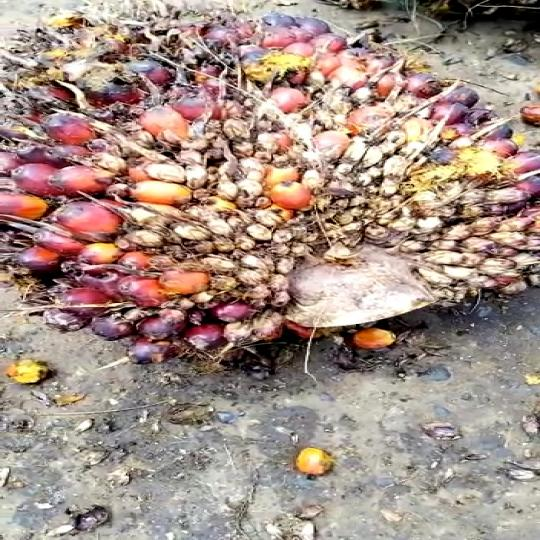masak: (0, 0, 540, 361)
